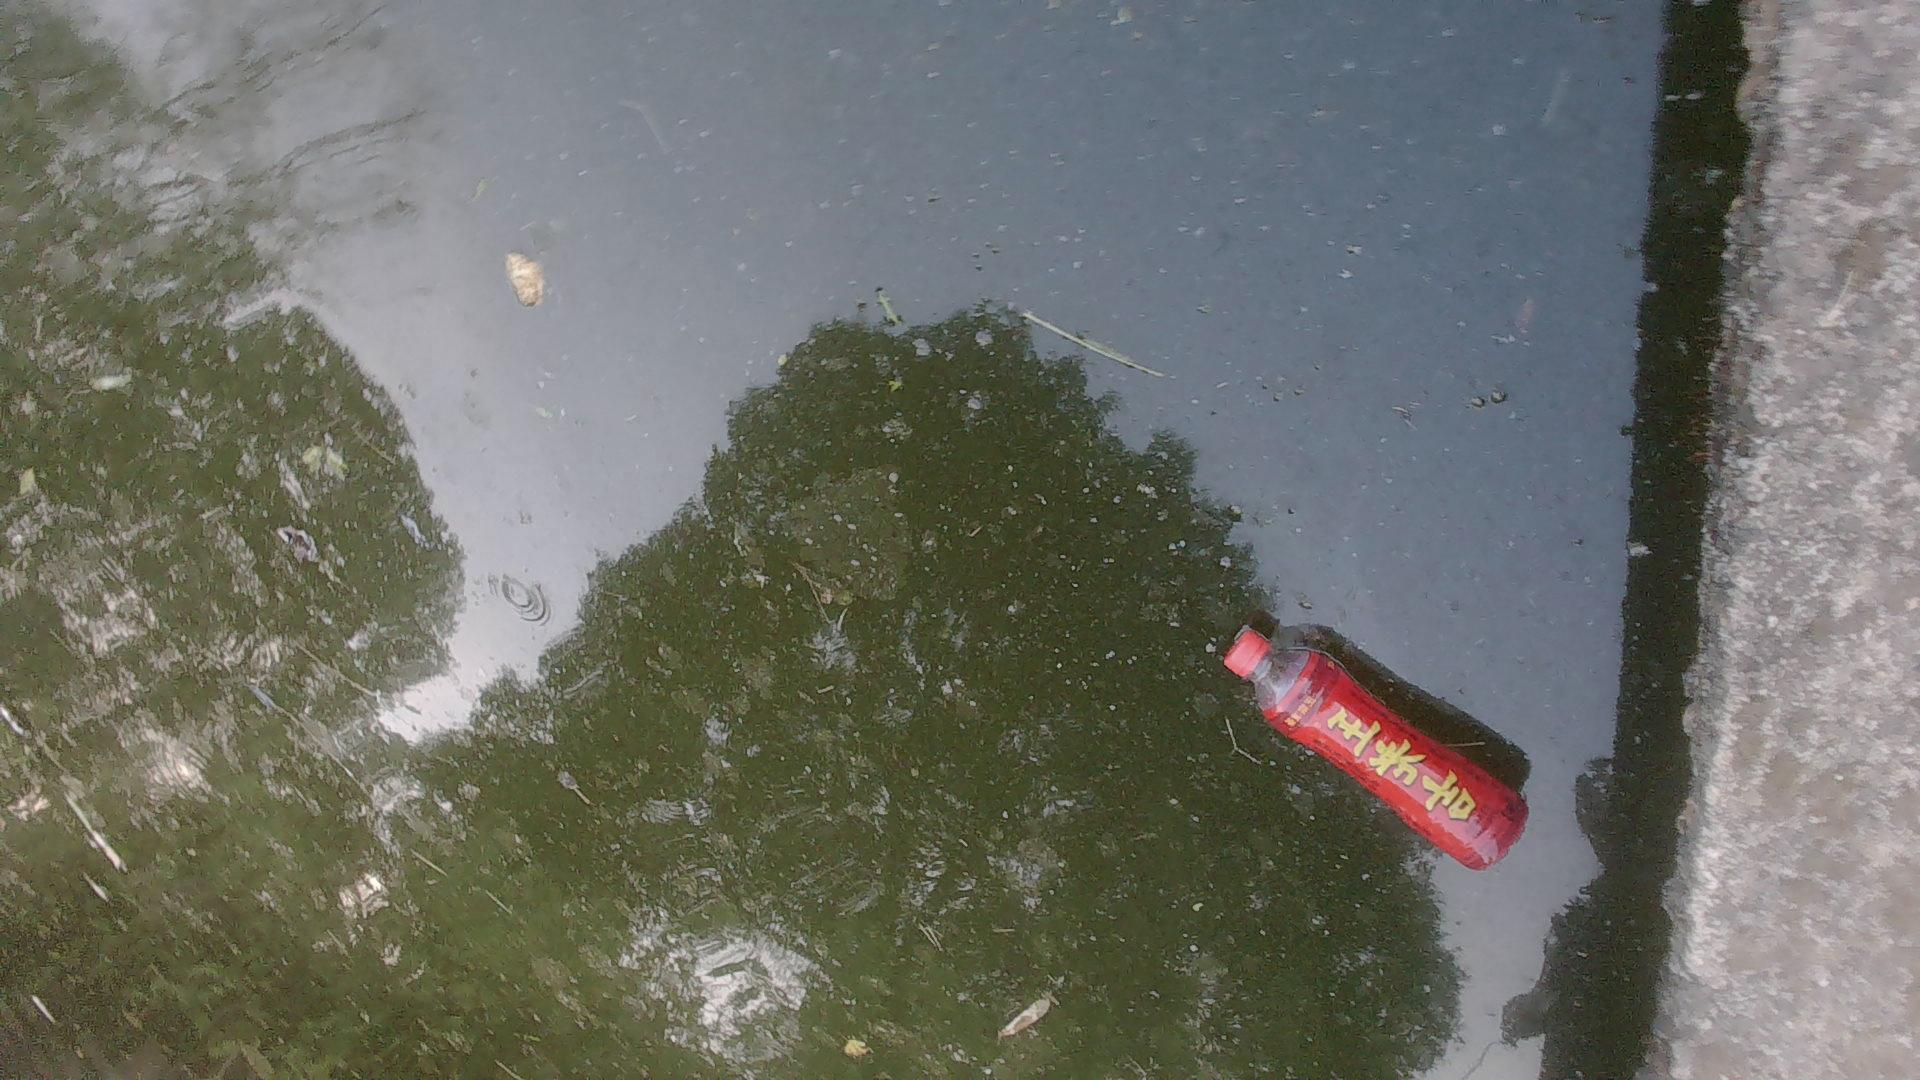Plastic: (1216, 622, 1532, 880)
